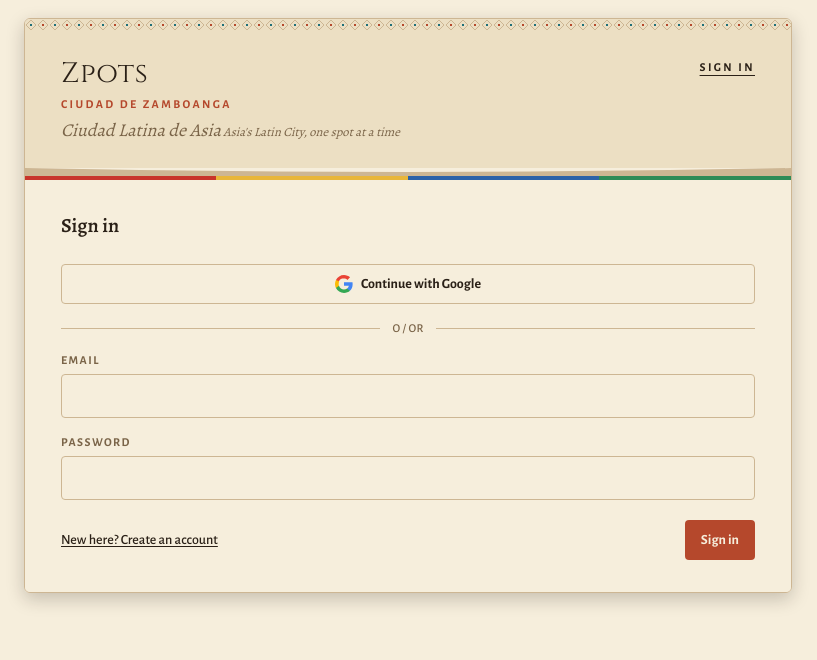
Test: Login page -- sign-in › shows the mapped error and preserves the typed password on wrong credentials
Type "a@b.com" into the field labelled "Email" at point(408, 396), box [61,374,755,418]
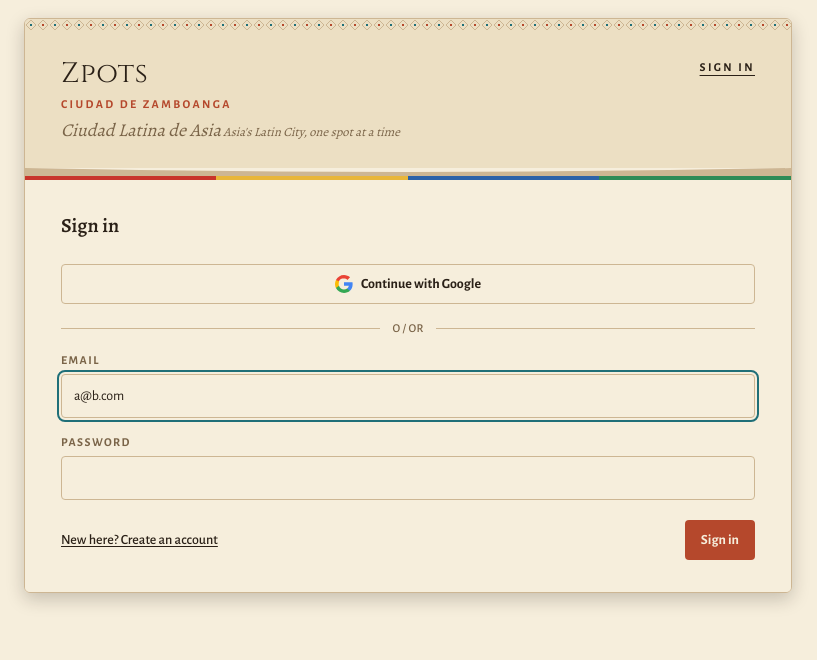
Type "wrongpass" into the password field labelled "Password" at point(408, 478), box [61,456,755,500]
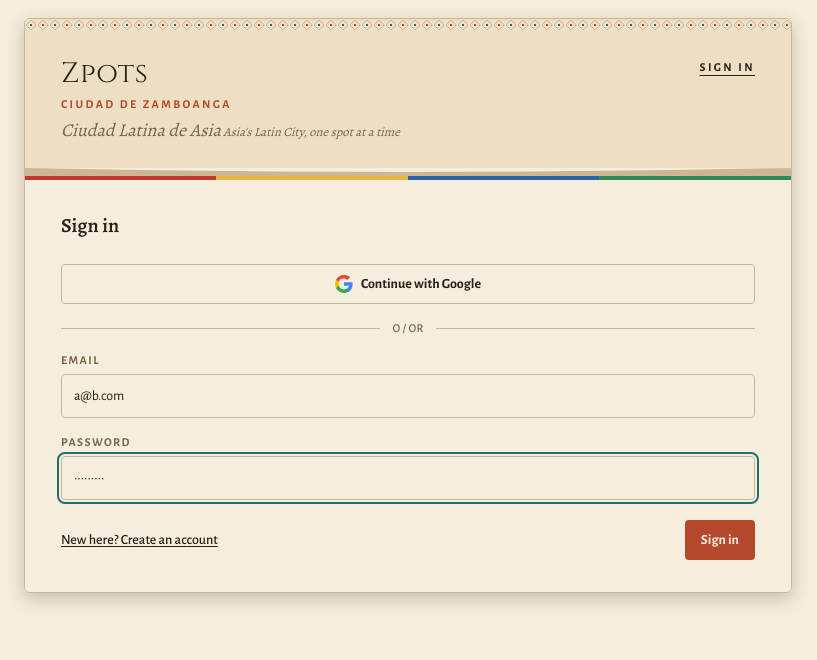
Click the button "Sign in" at point(720, 540), box [685,520,755,560]
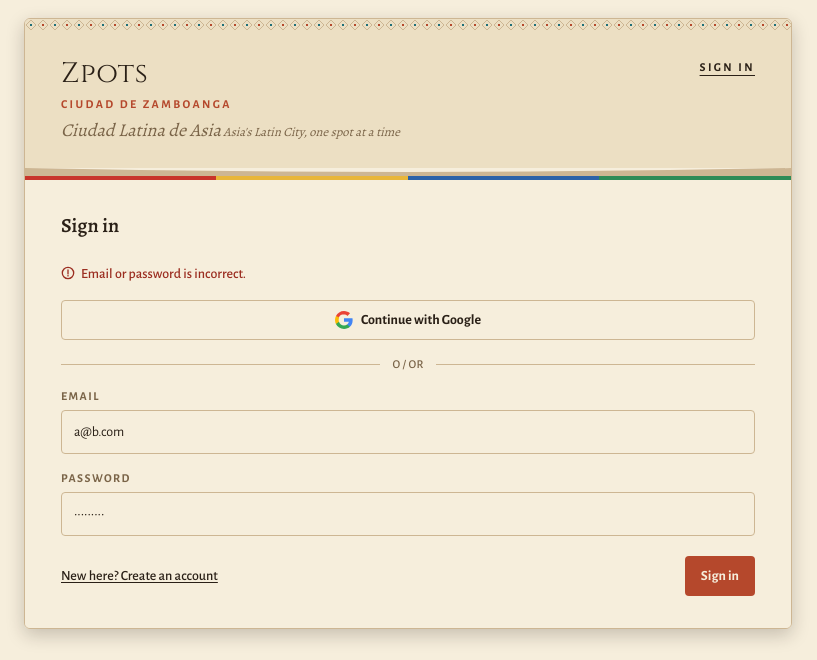
Expected: the text "Email or password is incorrect." is shown, [81,264,246,284]
